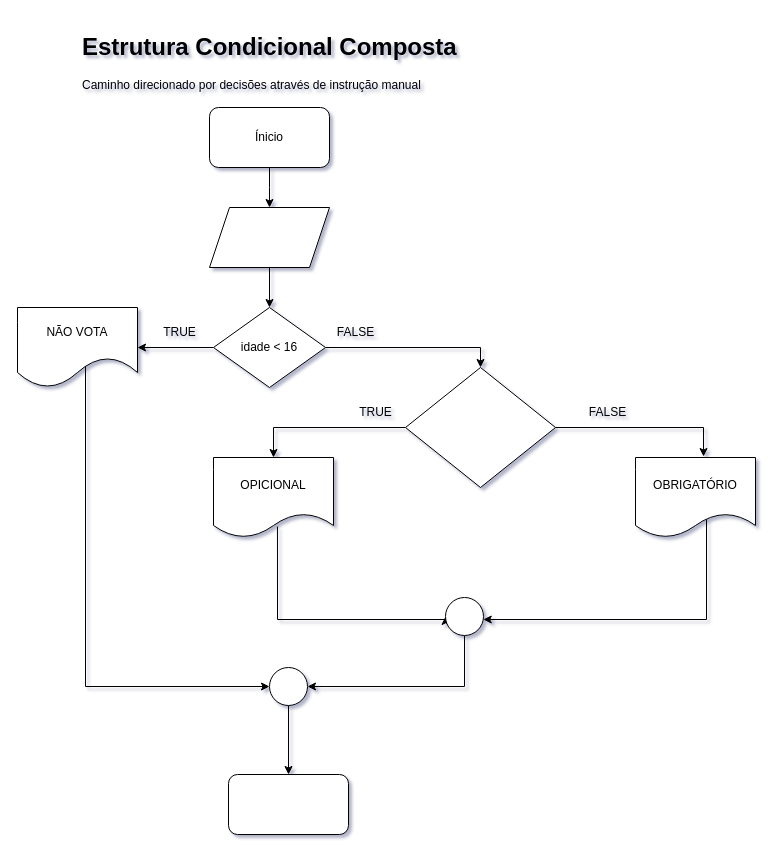
Image size: 779x858. Some labels were removed from this diagram. Here are the shapes that lost their labels. From the top down, the centre of each, then its label:
At (x=269, y=237): "idade".
At (x=480, y=427): "(16 <= idade < 18) || (idade > 70|)".
At (x=288, y=804): "FIM".
